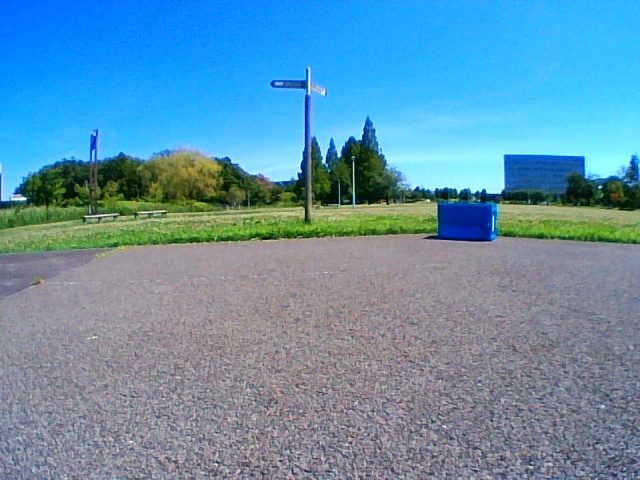blue_box: (437, 203, 495, 241)
tag: (491, 215, 496, 232)
